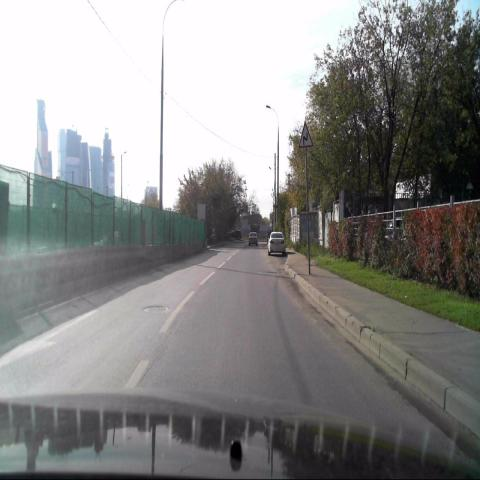1_12: (298, 123, 314, 148)
